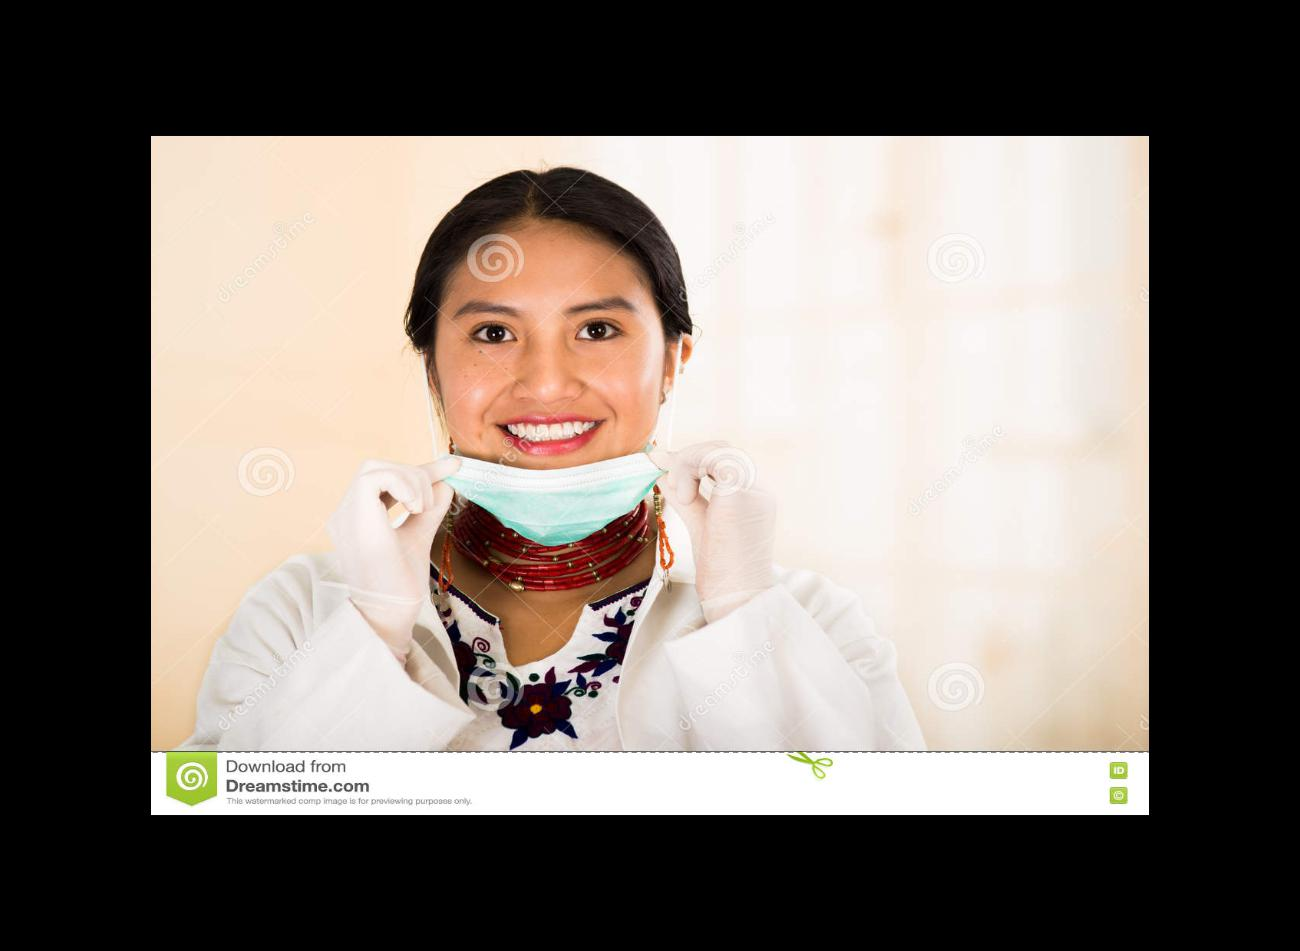mask_weared_incorrect: (447, 291, 655, 516)
